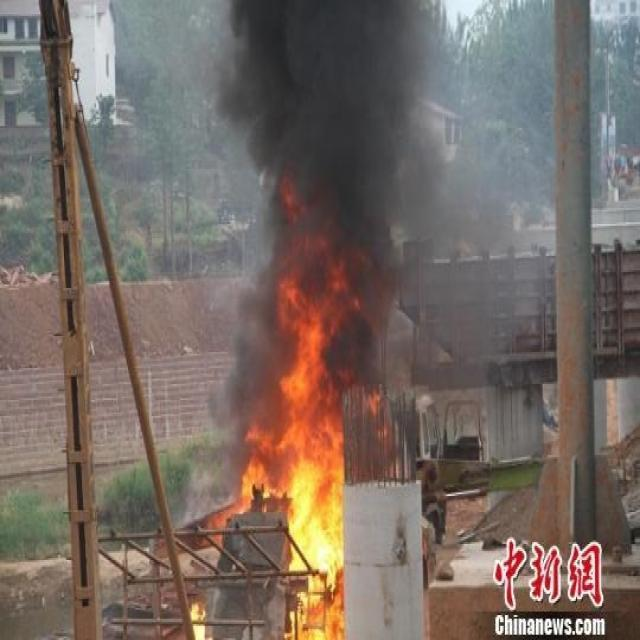Fire: (238, 272, 344, 638), (186, 604, 206, 640)
Smoke: (180, 2, 450, 528)
